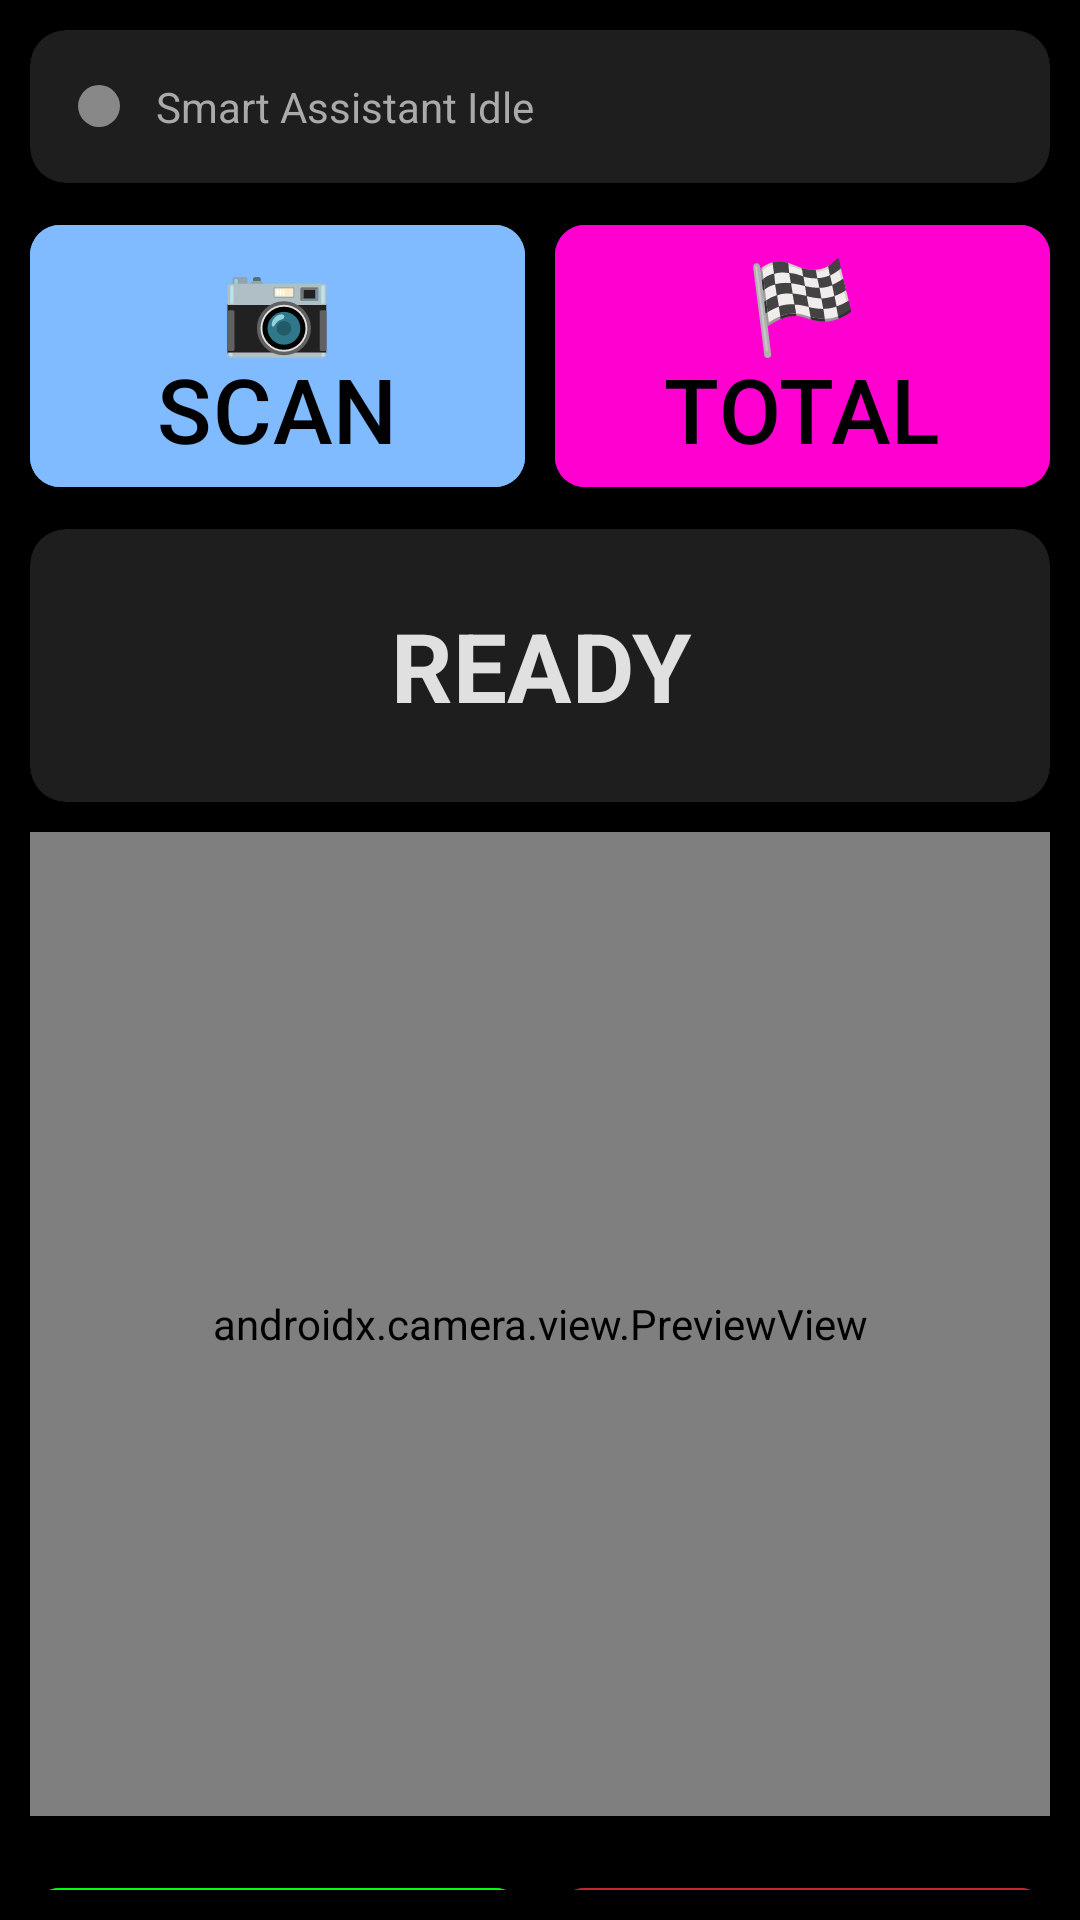

Named icons in this screenshot (1080x1920) and their centers, (x,y):
status dot: (99,106)
